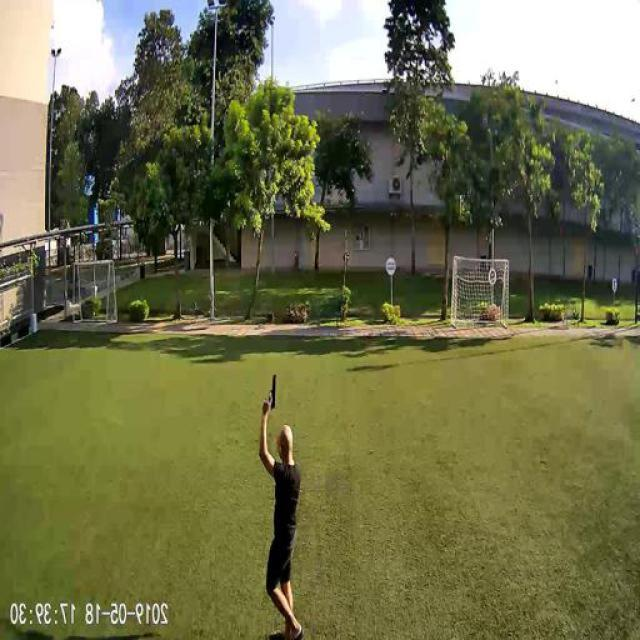weapon: (259, 372, 281, 411)
